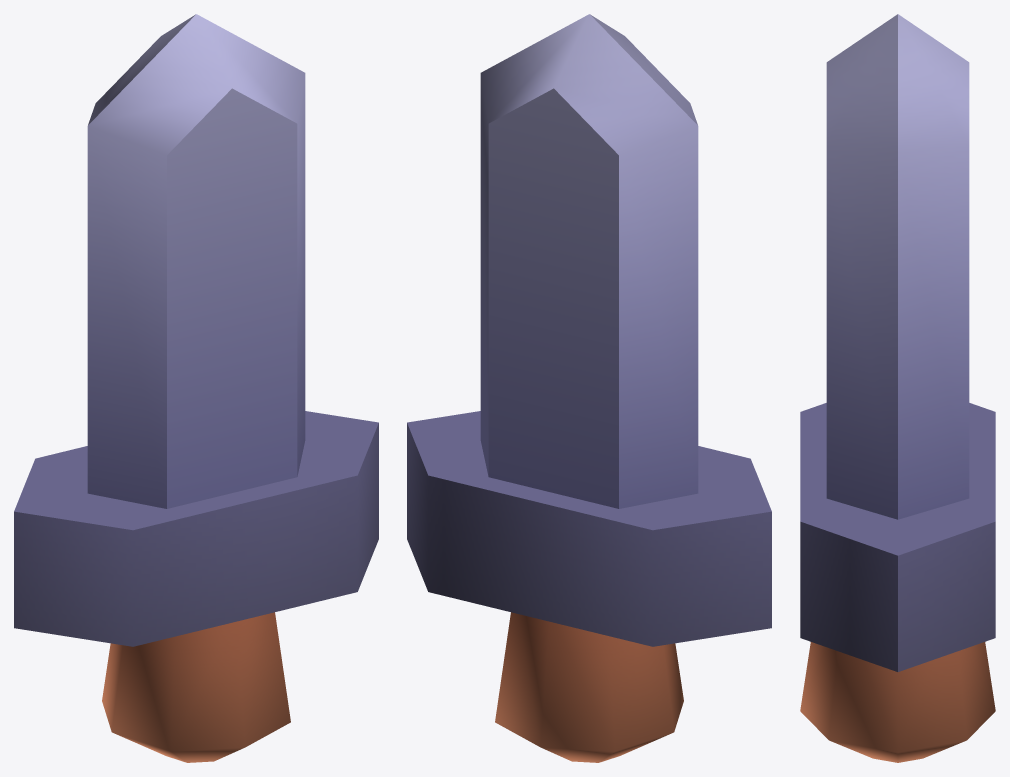
The model's file is sword.glb.
The picture shows the model from 3 angles, left to right: view 1: azimuth 30°, elevation 25°; view 2: azimuth 150°, elevation 25°; view 3: azimuth 270°, elevation 25°; orthographic projection.
Visible parts, largest first — view 1: weapon-sword; view 2: weapon-sword; view 3: weapon-sword.
Boxes of the visible parts, bbox=[...] form: weapon-sword: bbox=[14, 14, 378, 762]; weapon-sword: bbox=[407, 14, 771, 762]; weapon-sword: bbox=[800, 14, 995, 762].
Bounding box in the file's own units: 0.233 × 0.448 × 0.1082.
Materials: 1 (1 with a texture image).
